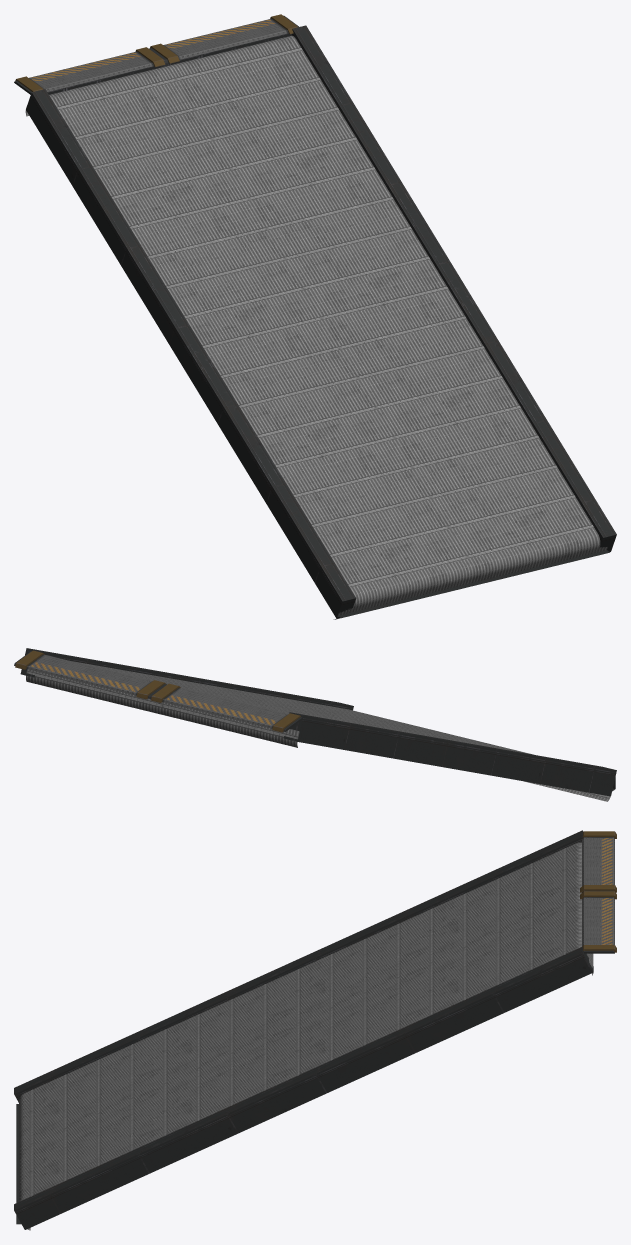
Rendered from Subway_Stairs_Escalator2B.fbx.
3 renders of one model, top to bottom at view 1: azimuth 30°, elevation 25°; view 2: azimuth 150°, elevation 25°; view 3: azimuth 270°, elevation 25°, orthographic. The views are drawn at different scales.
Visible parts, largest first — view 1: polySurface810; view 2: polySurface810; view 3: polySurface810.
Part boxes in pixels (x1,y1,x2,y2): polySurface810: (14,14,616,619); polySurface810: (14,648,616,801); polySurface810: (14,830,616,1230).
Size of the model in its own units: 204 by 218 by 424.
